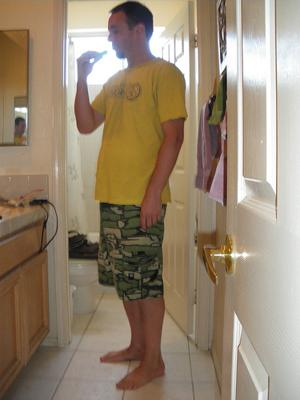person: (74, 3, 190, 390)
